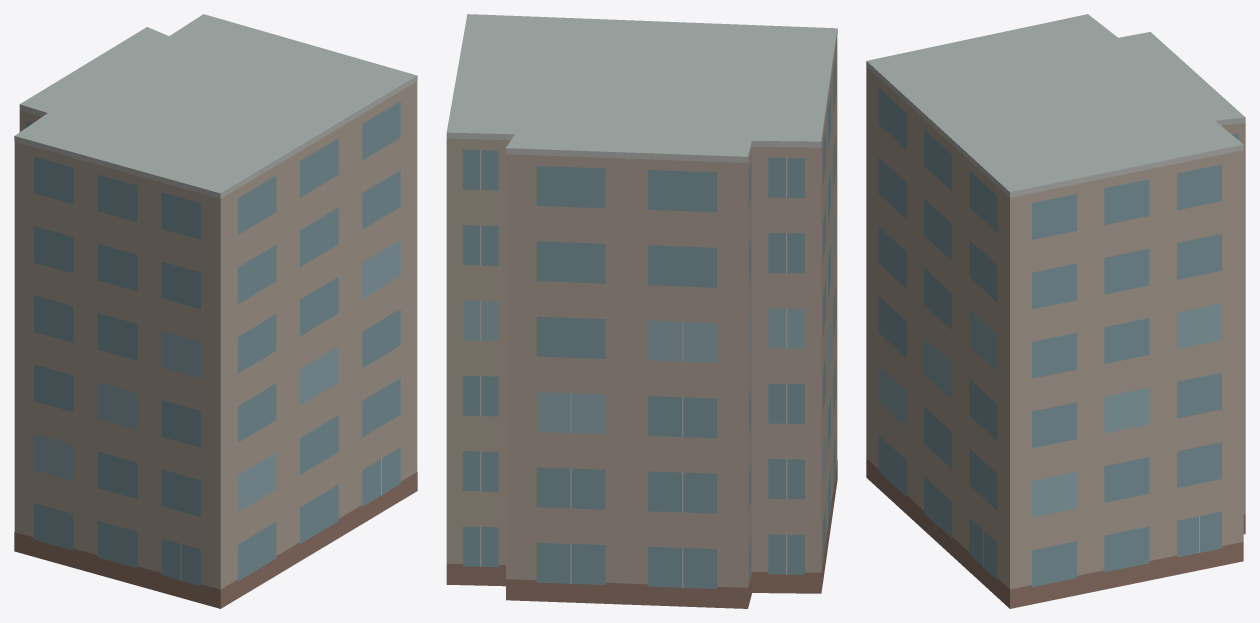
Rendered from survey-upis-32730251.glb.
3 renders of one model, left to right at view 1: azimuth 30°, elevation 25°; view 2: azimuth 150°, elevation 25°; view 3: azimuth 270°, elevation 25°, orthographic. The views are drawn at different scales.
Parts seen in each view (by area): view 1: survey-upis-32730251.tmp; view 2: survey-upis-32730251.tmp; view 3: survey-upis-32730251.tmp.
Boxes of the visible parts, bbox=[...] form: survey-upis-32730251.tmp: bbox=[14, 14, 417, 608]; survey-upis-32730251.tmp: bbox=[446, 14, 837, 608]; survey-upis-32730251.tmp: bbox=[866, 14, 1245, 608].
Bounding box in the file's own units: 16.8 × 18.3 × 15.1.
